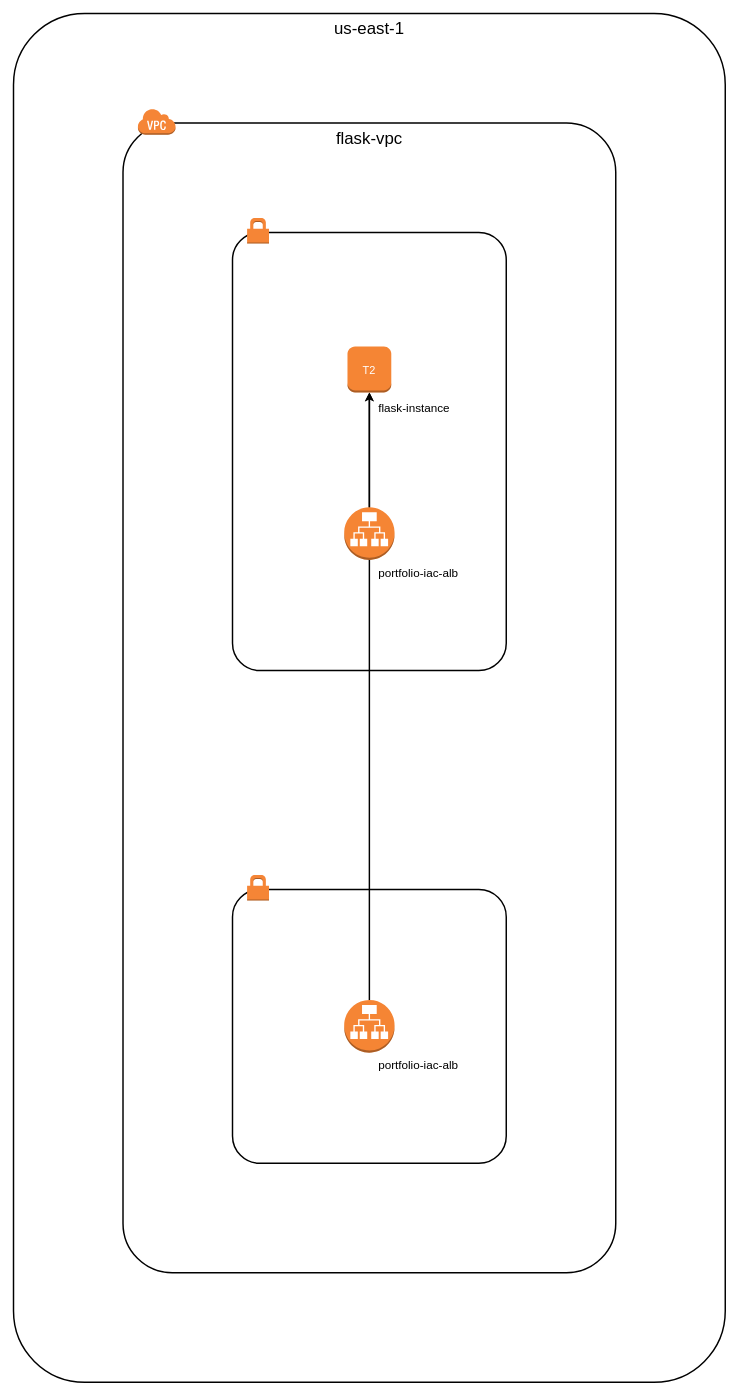
This 738x1395 diagram has some shape labels left out. Each missing label, with the box of its shape:
flask-vpc-public-subnet-az1: (231, 231, 507, 671)
flask-vpc-public-subnet-az2: (231, 888, 507, 1164)
